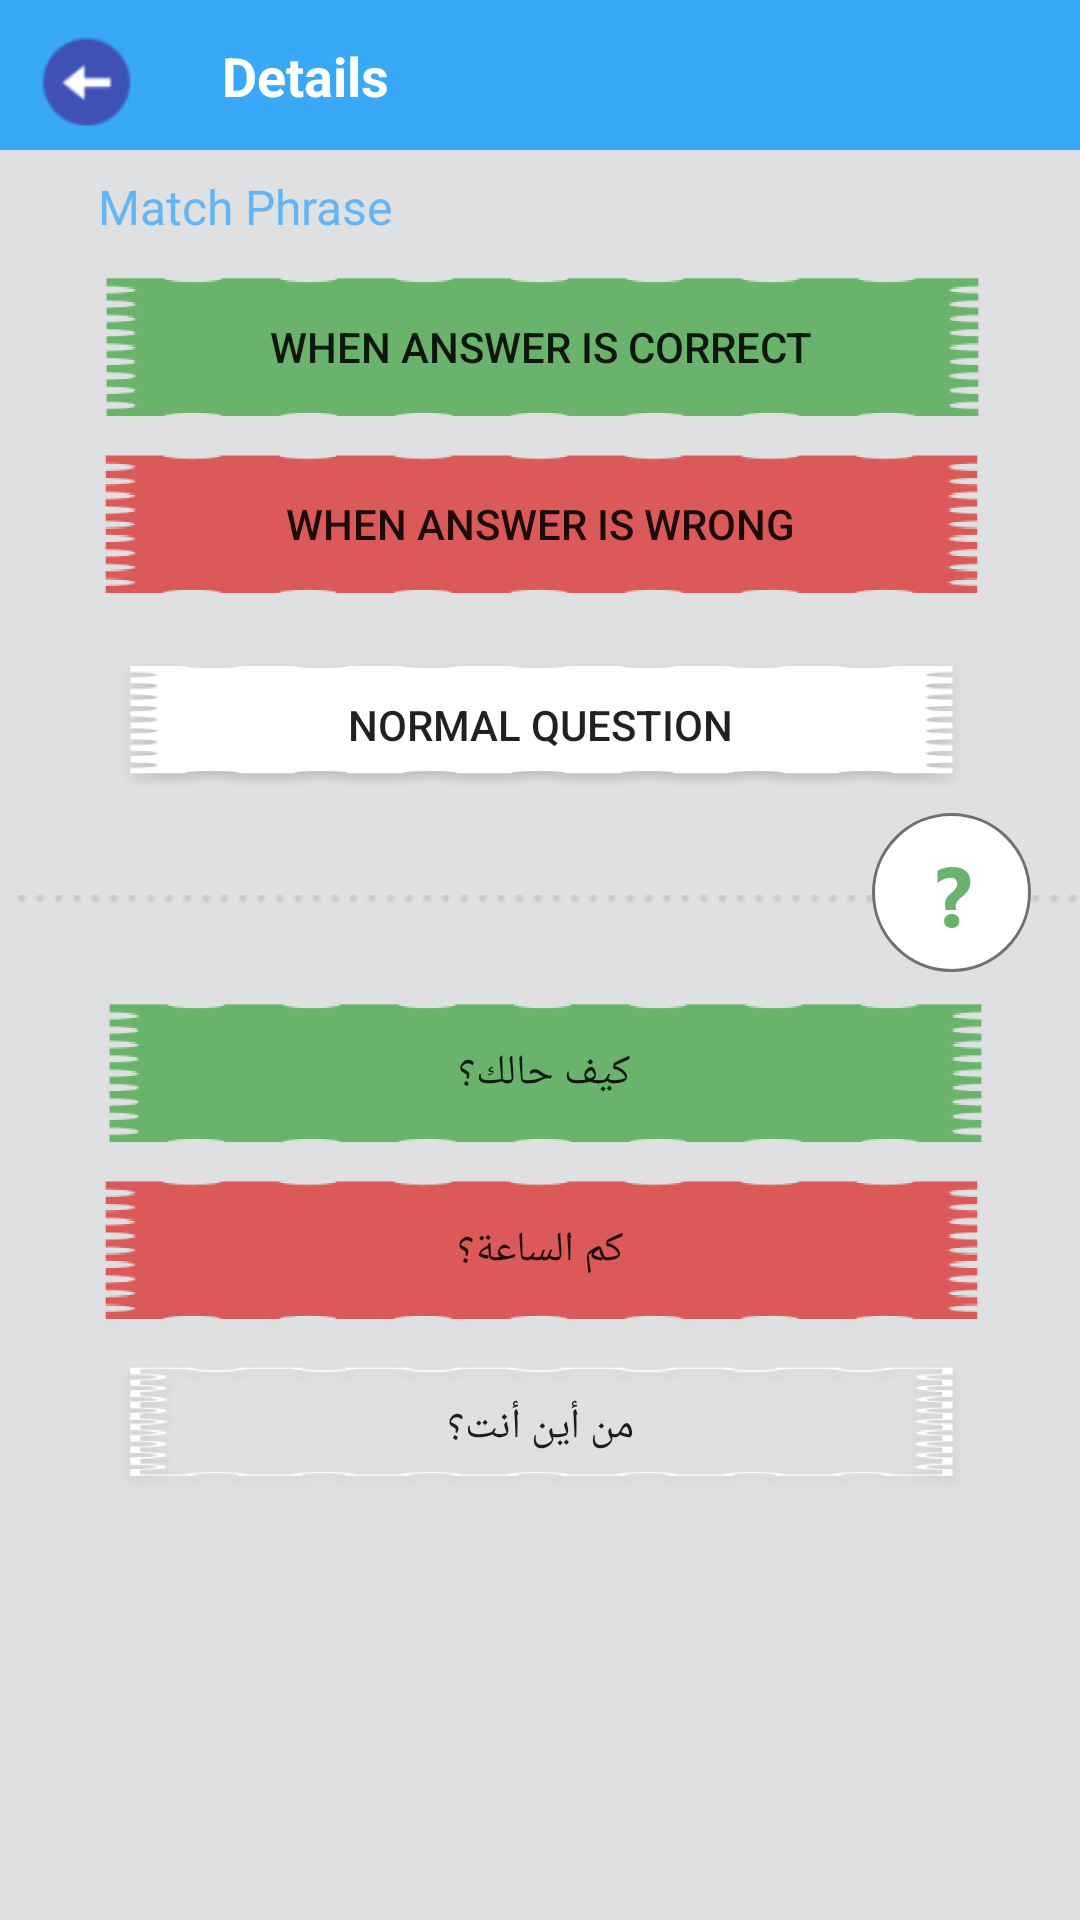

Where to tap for icons on this 1080×1920 app screen, as [x,y]:
goback: [86,82]
qmark: [951,892]
